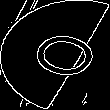O_SE: (11, 25, 99, 85)
